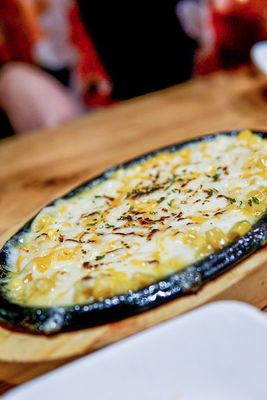sandwich: (0, 129, 266, 309)
